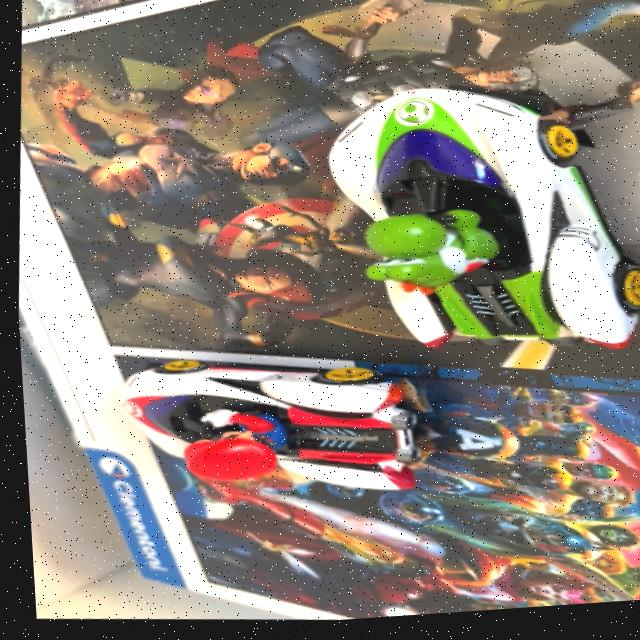mario: (90, 331, 468, 517)
yoshi: (287, 62, 640, 401)
